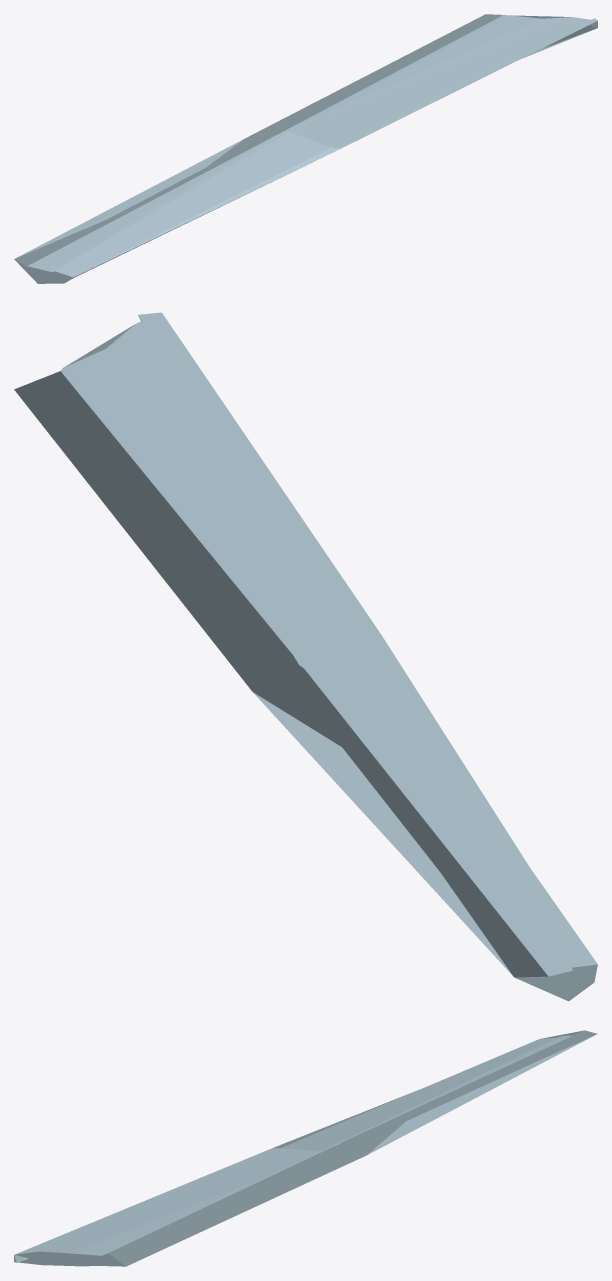
Rendered from su33d_slat_right.glb.
3 renders of one model, top to bottom at view 1: azimuth 90°, elevation 25°; view 2: azimuth 150°, elevation 25°; view 3: azimuth 270°, elevation 25°, orthographic. The views are drawn at different scales.
Visible parts, largest first — view 1: 0_SlatRight; view 2: 0_SlatRight; view 3: 0_SlatRight.
Boxes of the visible parts, left/top/right/bottom form: 0_SlatRight: left=14, top=14, right=597, bottom=283; 0_SlatRight: left=14, top=312, right=597, bottom=1001; 0_SlatRight: left=14, top=1030, right=597, bottom=1266.
Size of the model in its own units: 3.49 by 0.1942 by 3.49.
